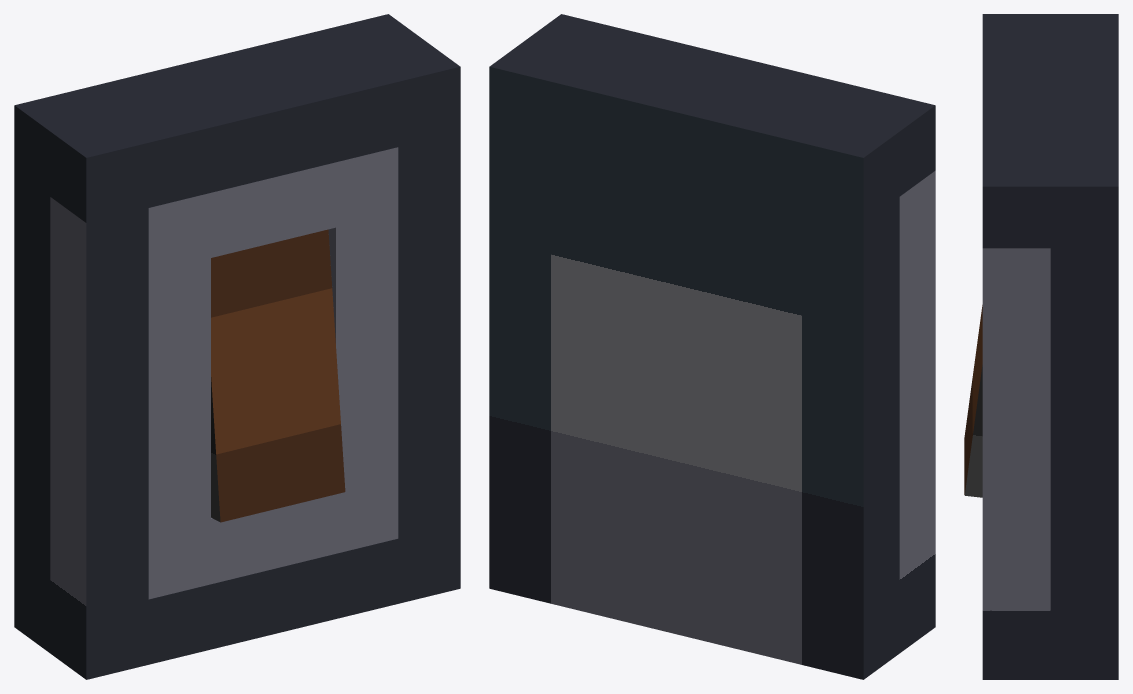
Rendered from light_switch_off.glb.
3 renders of one model, left to right at view 1: azimuth 30°, elevation 25°; view 2: azimuth 150°, elevation 25°; view 3: azimuth 270°, elevation 25°, orthographic. The views are drawn at different scales.
Visible parts, largest first — view 1: Continuous_Housing, Rocker_Emission_Overlay, Rocker; view 2: Continuous_Housing; view 3: Continuous_Housing, Rocker, Rocker_Emission_Overlay.
Boxes of the visible parts, x1,y1,x2,y2 form: Continuous_Housing: (14,14,460,679); Rocker_Emission_Overlay: (211,229,345,522); Rocker: (211,374,220,522); Continuous_Housing: (489,14,935,679); Continuous_Housing: (982,14,1118,679); Rocker: (964,362,982,497); Rocker_Emission_Overlay: (964,305,982,494).
Size of the model in its own units: 0.1688 by 0.225 by 0.0637.
2 materials, 2 textured.
